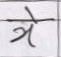e_matra: (24, 7, 38, 19)
